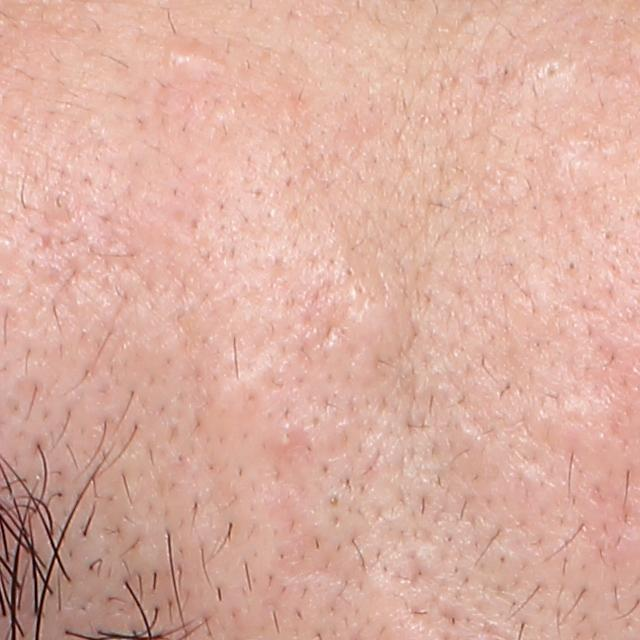comedo: (167, 46, 208, 75), (537, 54, 569, 86), (323, 489, 341, 509)
